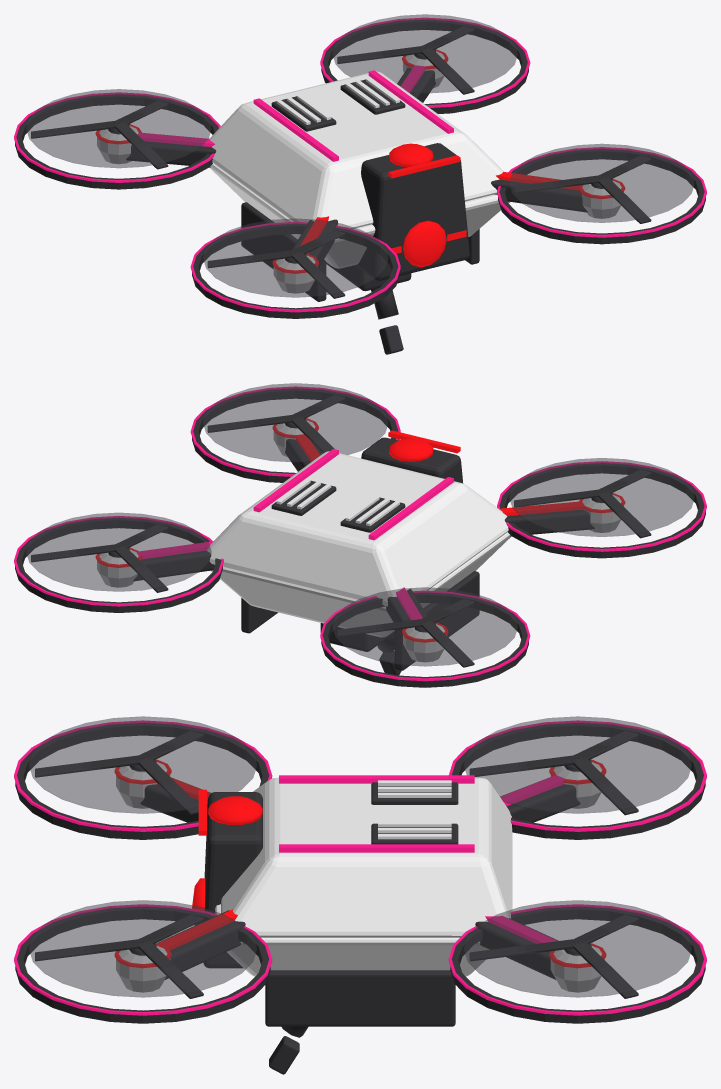
File: drone_hero.glb
The picture shows the model from 3 angles, top to bottom: view 1: azimuth 30°, elevation 25°; view 2: azimuth 150°, elevation 25°; view 3: azimuth 270°, elevation 25°; orthographic projection. The views are drawn at different scales.
Parts seen in each view (by area): view 1: drone_body, rotor_FL_mesh, rotor_FR_mesh, rotor_RL_mesh, rotor_RR_mesh; view 2: drone_body, rotor_FL_mesh, rotor_RL_mesh, rotor_RR_mesh, rotor_FR_mesh; view 3: drone_body, rotor_FR_mesh, rotor_RR_mesh, rotor_RL_mesh, rotor_FL_mesh.
Part boxes in pixels (bbox=[...]): drone_body: bbox=[14, 17, 706, 354]; rotor_FL_mesh: bbox=[203, 218, 388, 298]; rotor_FR_mesh: bbox=[509, 143, 694, 223]; rotor_RL_mesh: bbox=[26, 89, 211, 169]; rotor_RR_mesh: bbox=[332, 14, 517, 94]; drone_body: bbox=[14, 386, 706, 687]; rotor_FL_mesh: bbox=[509, 458, 694, 538]; rotor_RL_mesh: bbox=[332, 587, 517, 667]; rotor_RR_mesh: bbox=[26, 512, 211, 592]; rotor_FR_mesh: bbox=[203, 383, 388, 462]; drone_body: bbox=[14, 720, 706, 1074]; rotor_FR_mesh: bbox=[29, 900, 256, 998]; rotor_RR_mesh: bbox=[464, 900, 691, 998]; rotor_RL_mesh: bbox=[464, 716, 691, 815]; rotor_FL_mesh: bbox=[29, 716, 256, 815].
Size of the model in its own units: 2.55 by 1.1 by 2.55.
Materials: 4 (1 with a texture image).
